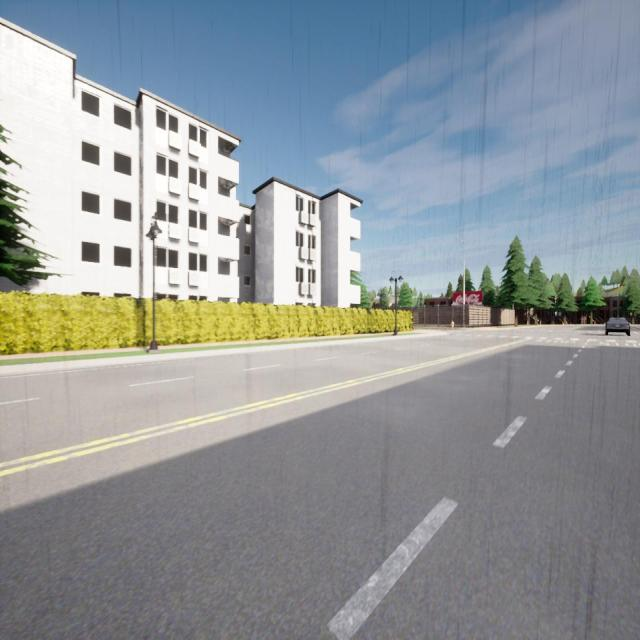Pedestrian: (450, 318, 454, 331)
Vehicle: (605, 318, 630, 336)
